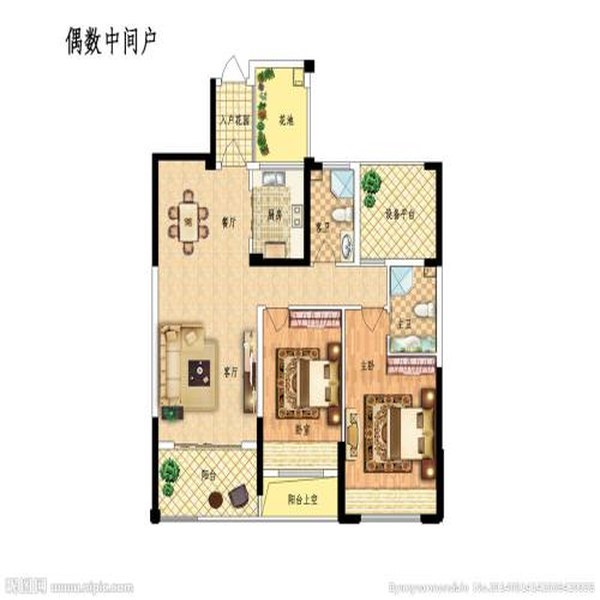door: (221, 130, 247, 169), (357, 303, 388, 334), (222, 56, 245, 89), (264, 306, 288, 334)
room: (339, 313, 445, 526), (259, 301, 349, 446), (353, 157, 445, 272)
wall: (437, 369, 445, 515), (152, 154, 162, 265), (437, 160, 446, 266), (304, 154, 312, 263), (151, 424, 159, 525), (211, 79, 220, 162), (338, 440, 346, 518), (157, 150, 213, 161), (256, 420, 264, 493), (250, 258, 307, 267)
window: (359, 514, 419, 524), (277, 466, 323, 478), (257, 160, 303, 169), (361, 256, 386, 266)
